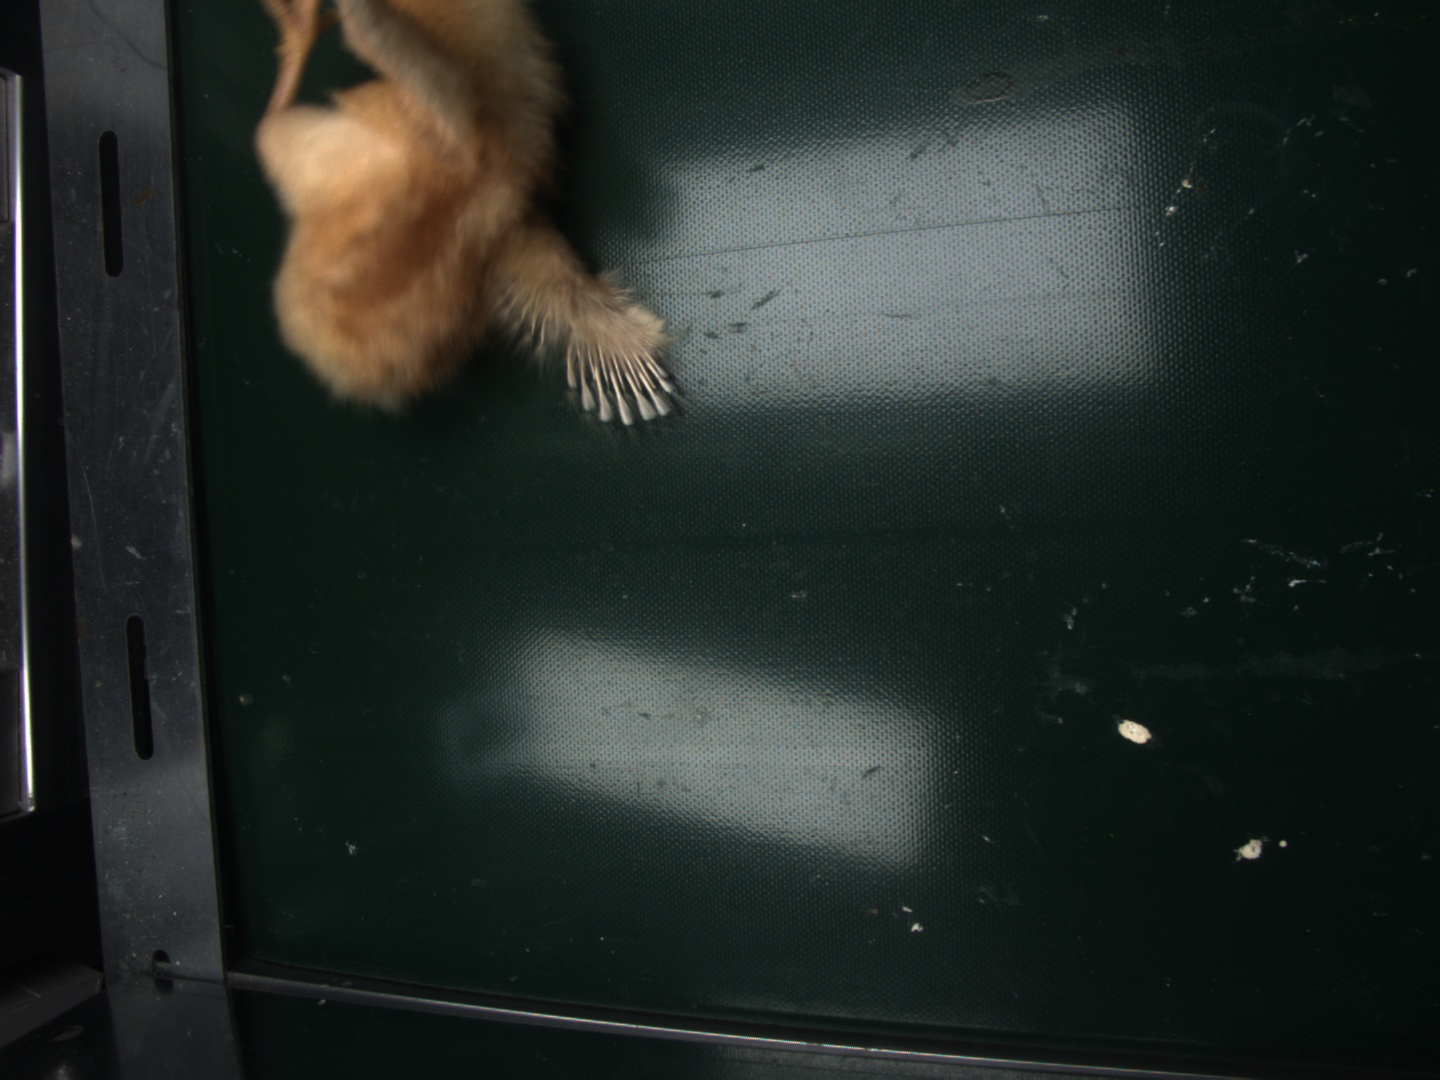female: (569, 341, 676, 424)
